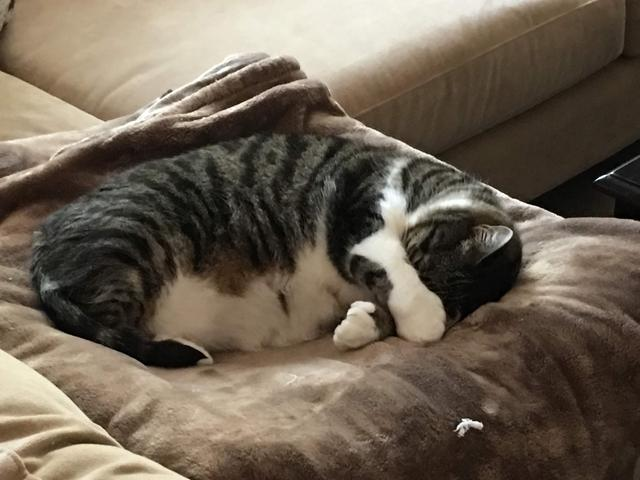playdoh: (26, 128, 521, 371)
